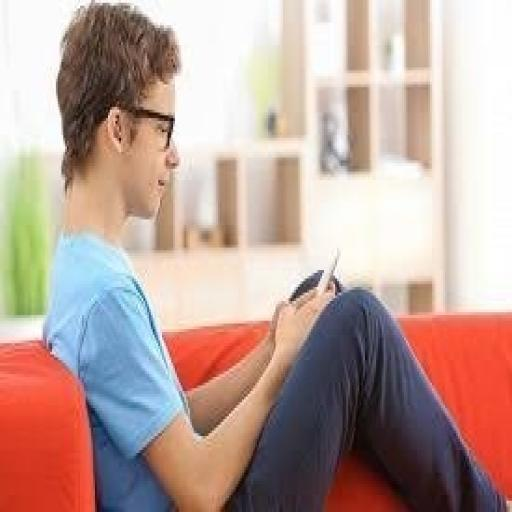texting: (39, 0, 508, 509)
